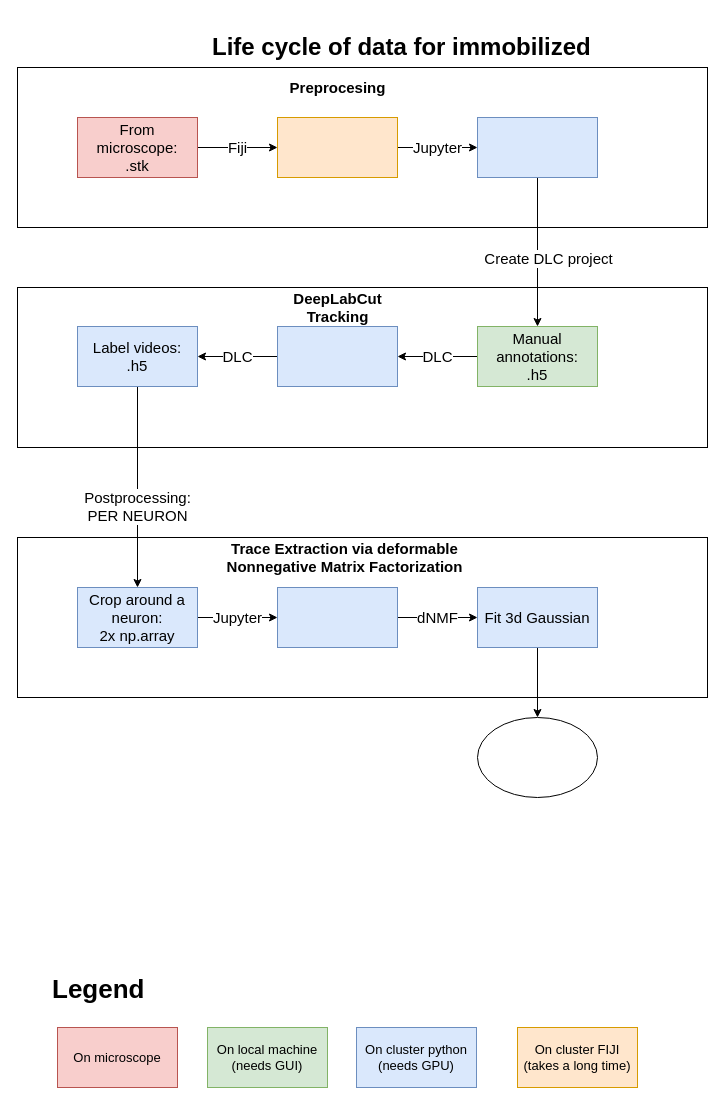
This 725x1105 diagram has some shape labels left out. The centre of each missing label's shape, as x and y in pixels:
Convert to pytorch: tensor: (337,617)
Converted and concatenated: .ome-tiff: (337,147)
One plane written as: .avi: (537,147)
Traces!: (537,757)
Train the network .h5? .pickle?: (337,356)
